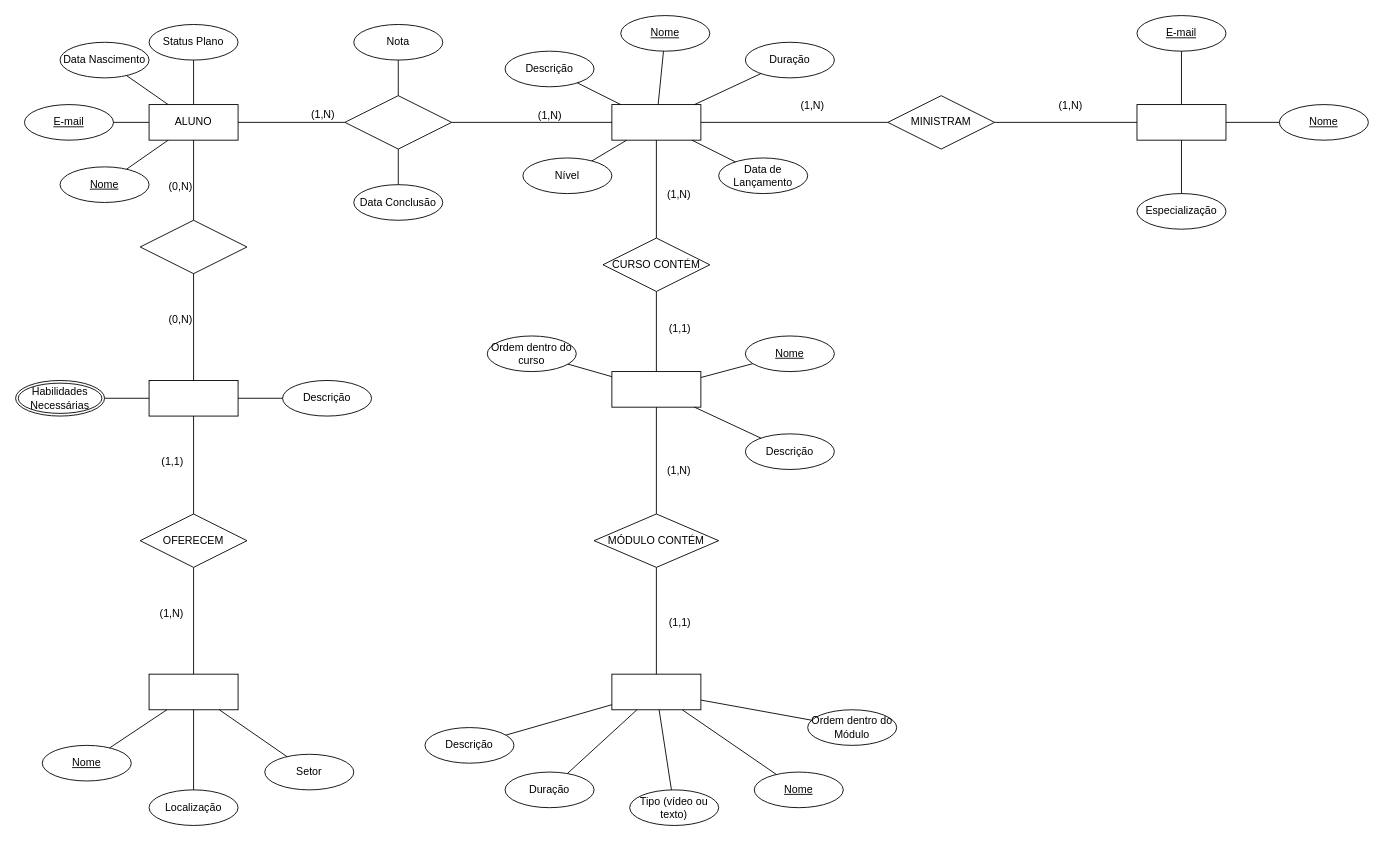
Some shapes in this 1384 by 841 pixel diagram are drawn without their labels. Here are the shapes that lost their labels. From the top down, the box of each, then its label:
(344, 95, 452, 149): ESTUDAM
(611, 104, 701, 140): CURSO
(1136, 104, 1226, 140): PROFESSOR
(139, 219, 247, 274): SE QUALIFICAM
(148, 380, 238, 416): VAGA
(611, 371, 701, 407): MÓDULO
(148, 673, 238, 710): EMPRESAS
(611, 673, 701, 710): AULA
